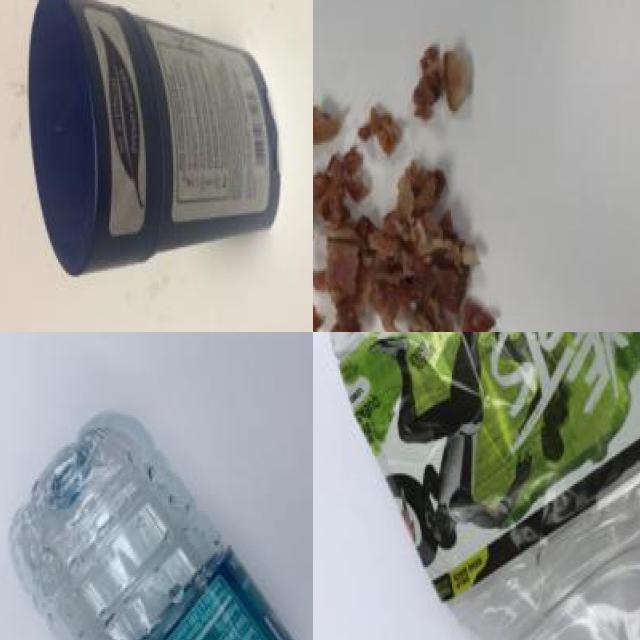compost: (313, 35, 517, 332)
plastic: (318, 332, 640, 640), (8, 409, 313, 640)
trash: (24, 0, 303, 299)
